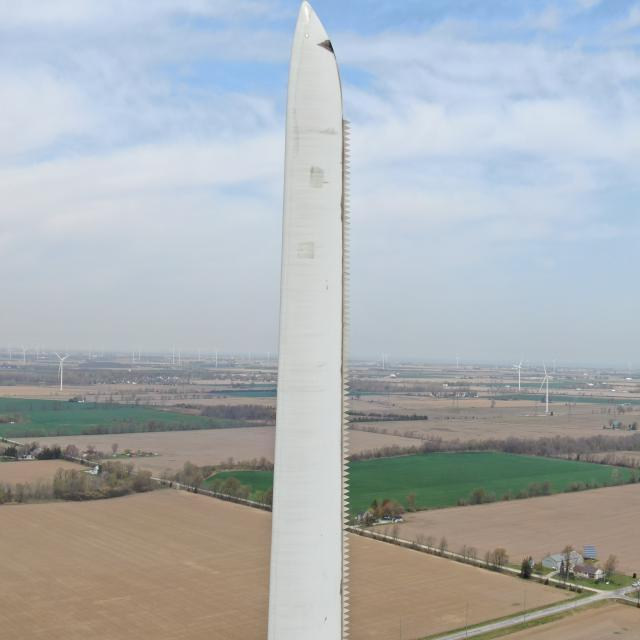damage: (316, 36, 338, 58)
